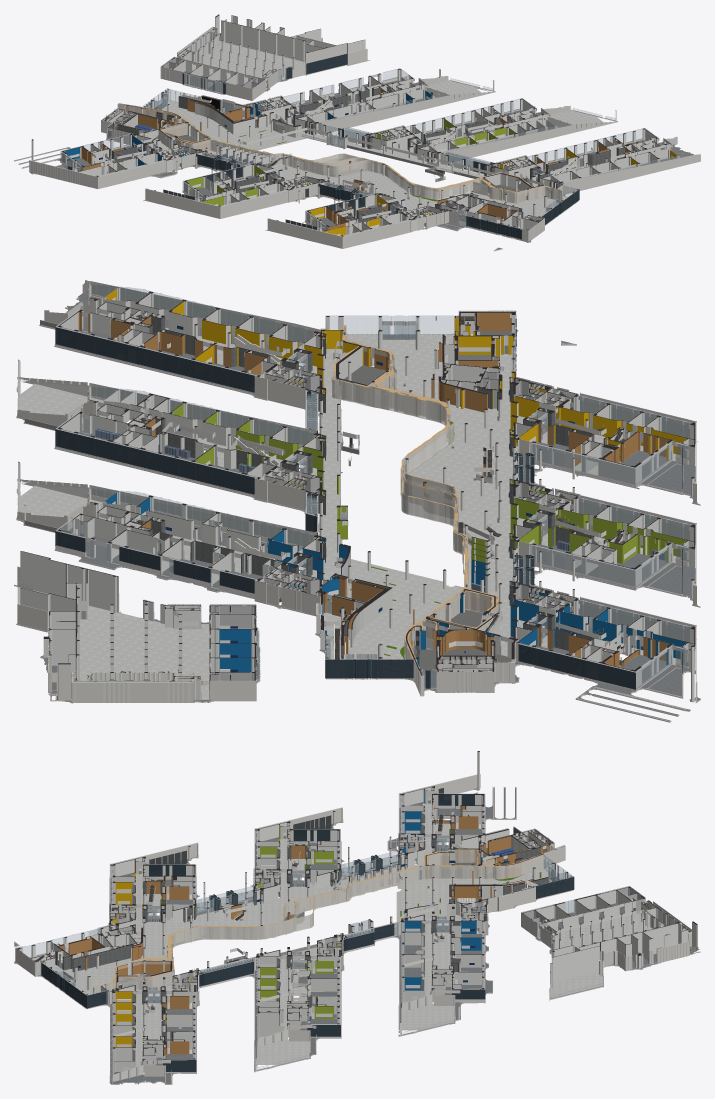
The model's file is floor_G.glb.
The picture shows the model from 3 angles, top to bottom: view 1: azimuth 30°, elevation 25°; view 2: azimuth 150°, elevation 25°; view 3: azimuth 270°, elevation 25°; orthographic projection. The views are drawn at different scales.
Visible parts, largest first — view 1: wall_paint, grc_screen, floor_granite, wall_top, glass, bulkhead, mashrabiya, wall_granite, glass_ext, wall_grc, floor_vinyl, frame (+14 smaller); view 2: wall_paint, floor_granite, grc_screen, glass, wall_top, glass_ext, bulkhead, floor_vinyl, mashrabiya, wall_granite, wall_acoustic, wall_accent_C (+19 smaller); view 3: wall_paint, floor_granite, wall_top, mashrabiya, grc_screen, glass_ext, floor_vinyl, bulkhead, glass, wall_grc, wall_granite, wall_acoustic (+15 smaller).
Boxes of the visible parts, left/top/right/bottom form: wall_paint: left=31, top=15, right=693, bottom=234; grc_screen: left=29, top=26, right=700, bottom=248; floor_granite: left=93, top=41, right=617, bottom=233; wall_top: left=32, top=14, right=669, bottom=236; glass: left=60, top=30, right=691, bottom=236; bulkhead: left=65, top=51, right=667, bottom=236; mashrabiya: left=128, top=106, right=562, bottom=203; wall_granite: left=108, top=88, right=625, bottom=227; glass_ext: left=150, top=54, right=579, bottom=239; wall_grc: left=107, top=16, right=616, bottom=231; floor_vinyl: left=15, top=36, right=687, bottom=249; frame: left=60, top=45, right=664, bottom=235; wall_paint: left=20, top=284, right=694, bottom=700; floor_granite: left=17, top=328, right=680, bottom=699; grc_screen: left=17, top=280, right=697, bottom=703; glass: left=61, top=285, right=690, bottom=688; wall_top: left=18, top=291, right=695, bottom=681; glass_ext: left=49, top=316, right=635, bottom=689; bulkhead: left=62, top=300, right=693, bottom=685; floor_vinyl: left=17, top=293, right=700, bottom=720; mashrabiya: left=331, top=325, right=499, bottom=668; wall_granite: left=146, top=316, right=620, bottom=662; wall_acoustic: left=78, top=312, right=669, bottom=673; wall_accent_C: left=105, top=288, right=686, bottom=461; wall_paint: left=18, top=752, right=696, bottom=1081; floor_granite: left=55, top=803, right=652, bottom=1070; wall_top: left=17, top=751, right=697, bottom=1061; mashrabiya: left=93, top=849, right=544, bottom=993; grc_screen: left=15, top=774, right=691, bottom=1084; glass_ext: left=31, top=793, right=600, bottom=1071; floor_vinyl: left=14, top=787, right=692, bottom=1083; bulkhead: left=19, top=789, right=646, bottom=1063; glass: left=21, top=792, right=686, bottom=1077; wall_grc: left=40, top=828, right=688, bottom=1081; wall_granite: left=48, top=822, right=548, bottom=1040; wall_acoustic: left=59, top=795, right=549, bottom=1058.
Size of the model in its own units: 253 by 19.75 by 247.
58 materials, 14 textured.
